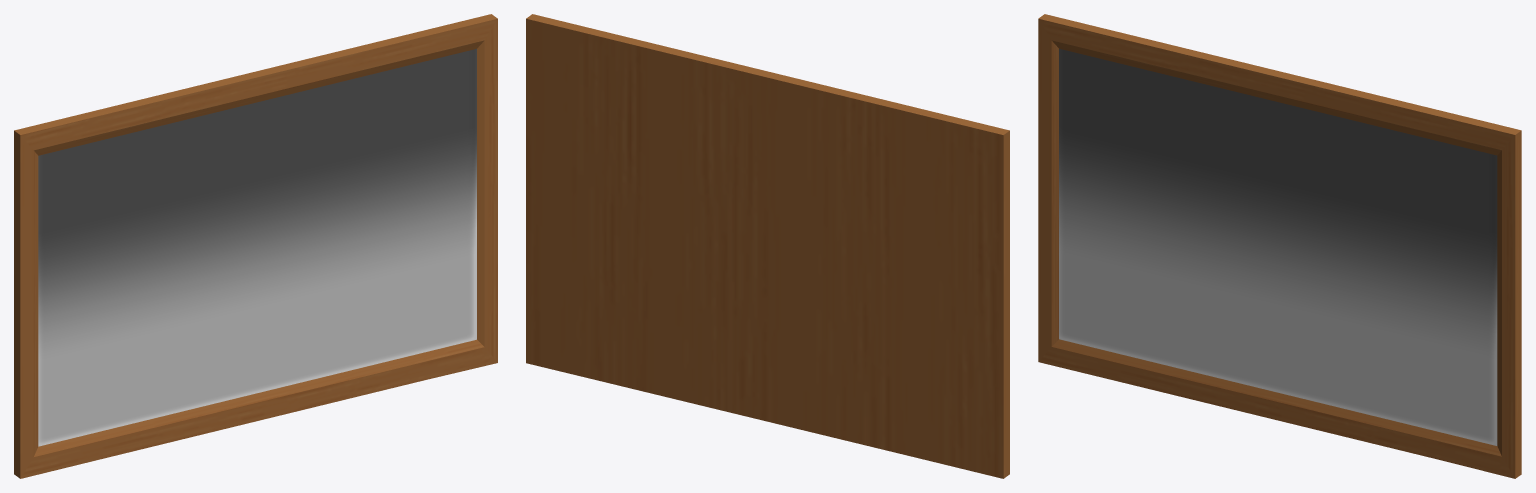
File: Mirror_G.FBX
The picture shows the model from 3 angles, left to right: view 1: azimuth 30°, elevation 25°; view 2: azimuth 150°, elevation 25°; view 3: azimuth 330°, elevation 25°; orthographic projection.
Visible parts, largest first — view 1: Mirror; view 2: Mirror; view 3: Mirror.
Part boxes in pixels (x1,y1,x2,y2): Mirror: (14, 14, 497, 478); Mirror: (526, 14, 1009, 478); Mirror: (1038, 14, 1521, 478).
Size of the model in its own units: 238 by 164 by 5.52.
